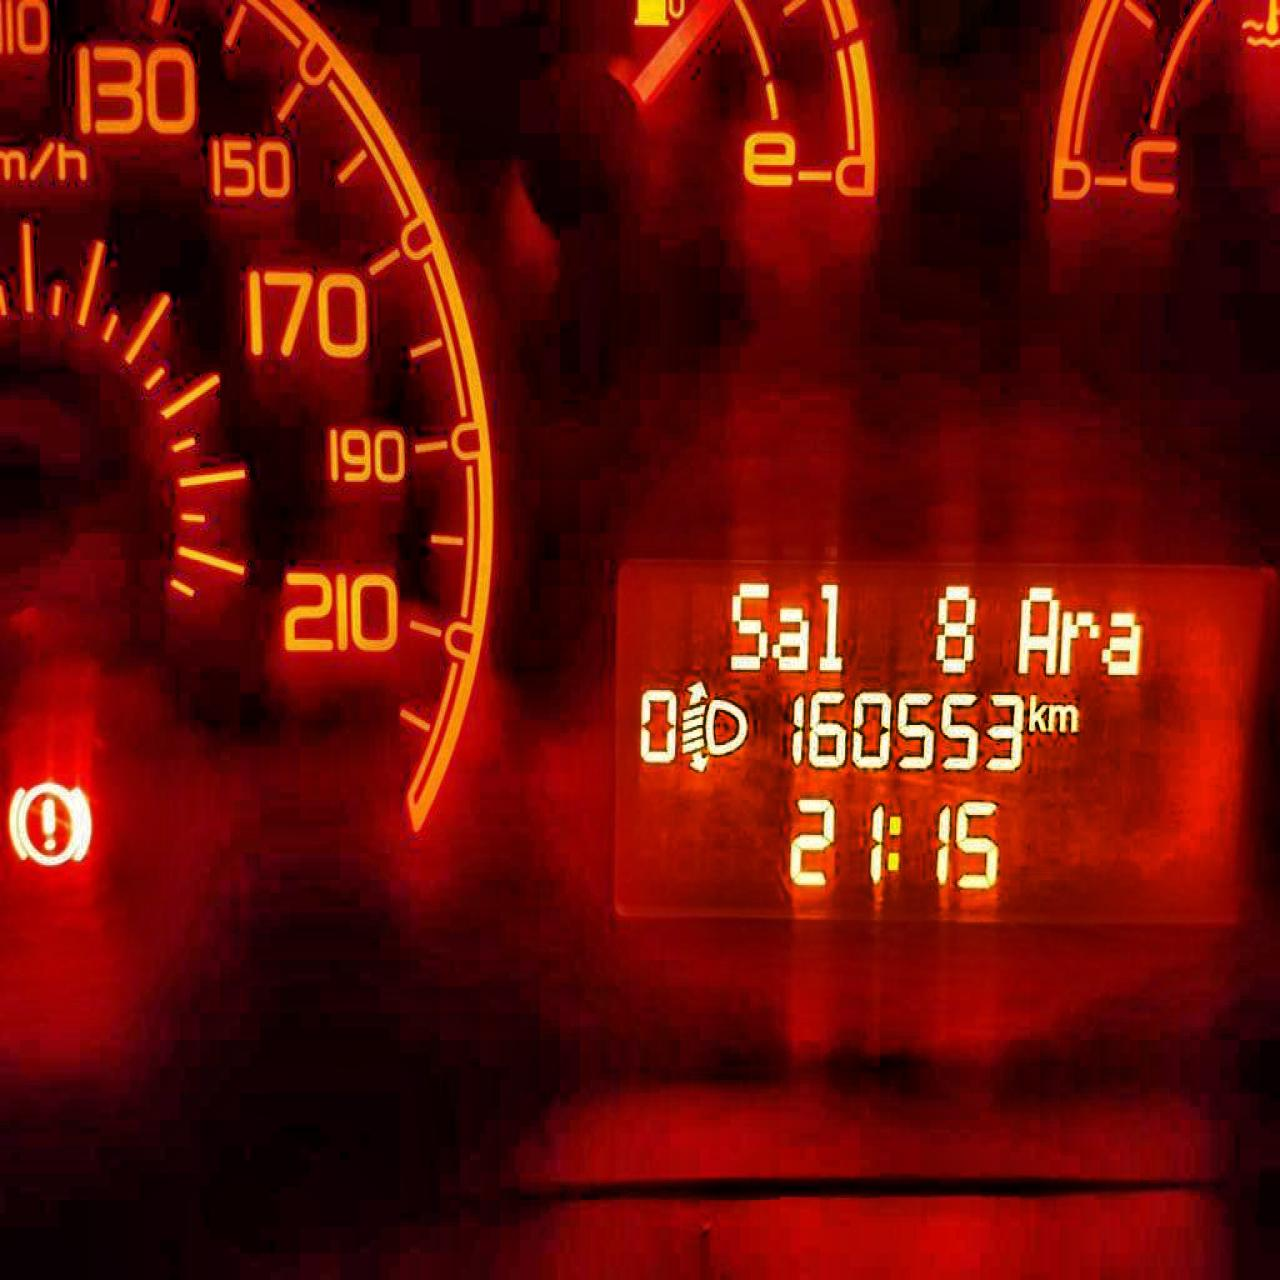0: (847, 682, 892, 774), (632, 682, 680, 765)
1: (926, 798, 953, 890), (864, 797, 884, 890), (784, 688, 802, 767)
2: (784, 790, 837, 893)
3: (983, 689, 1022, 774)
5: (954, 791, 1001, 893), (937, 688, 982, 774), (896, 688, 934, 774)
6: (805, 685, 846, 774)
8: (930, 578, 975, 676)
X: (727, 573, 769, 679), (1015, 577, 1056, 679), (1103, 605, 1146, 680), (1058, 604, 1099, 679), (817, 573, 846, 676), (772, 601, 811, 675), (884, 805, 904, 878), (1043, 700, 1081, 735), (1024, 688, 1044, 735)
odometer: (600, 539, 1276, 938)
